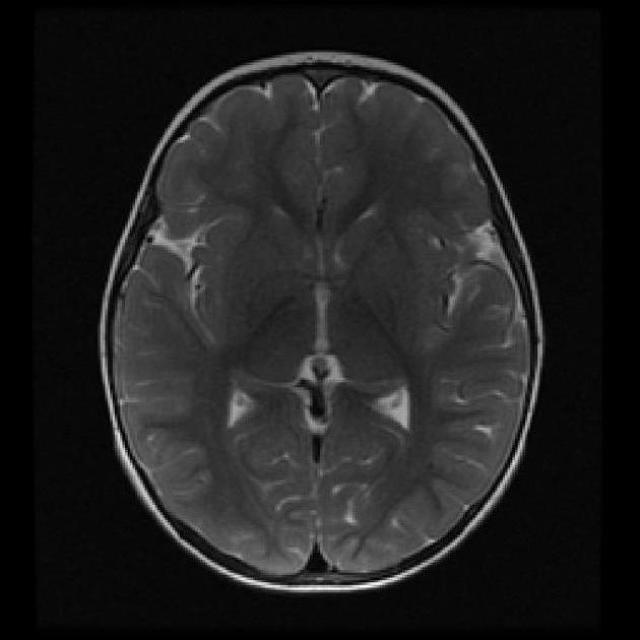No_Tumor: (100, 52, 543, 591)
